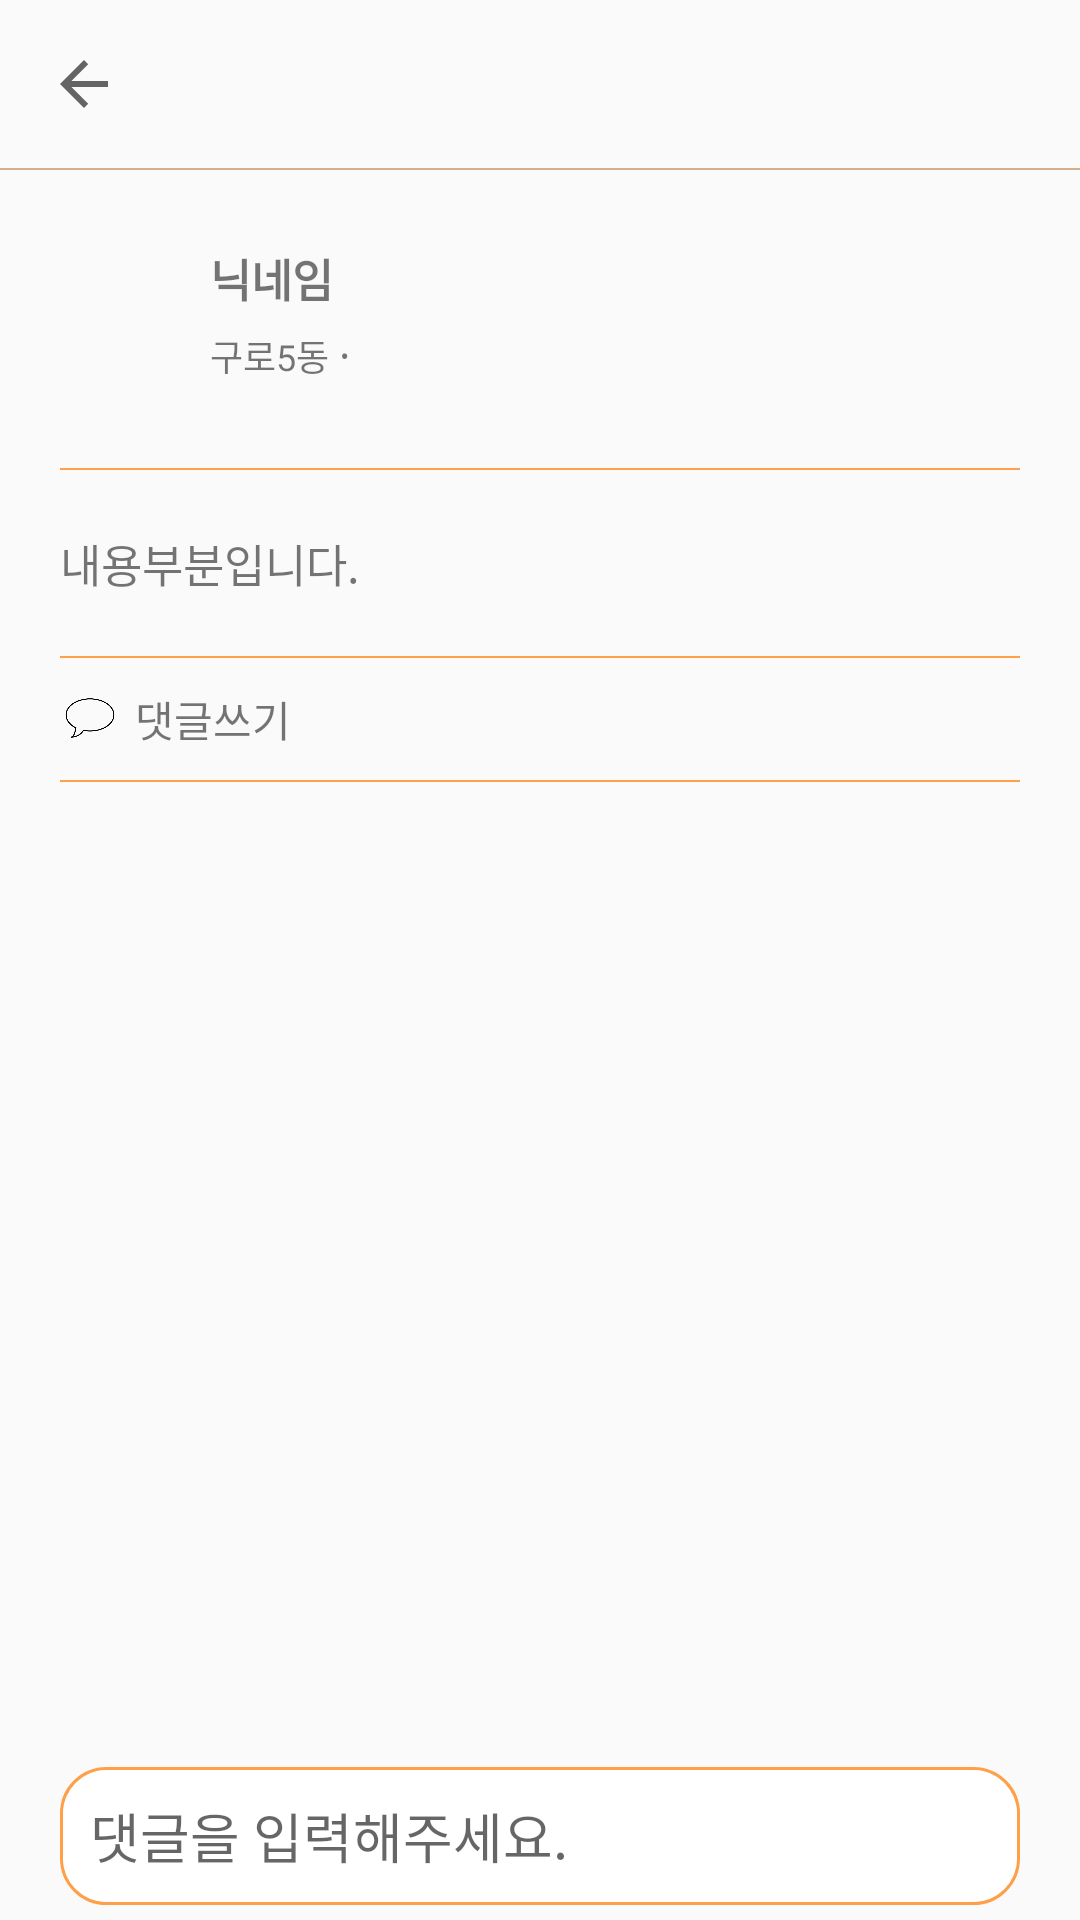

Named icons in this screenshot (1080px x 1920px) and their bounding boxes, [left=x1, top=y1, right=x2, bottom=y2]:
chat: [left=66, top=698, right=114, bottom=738]
